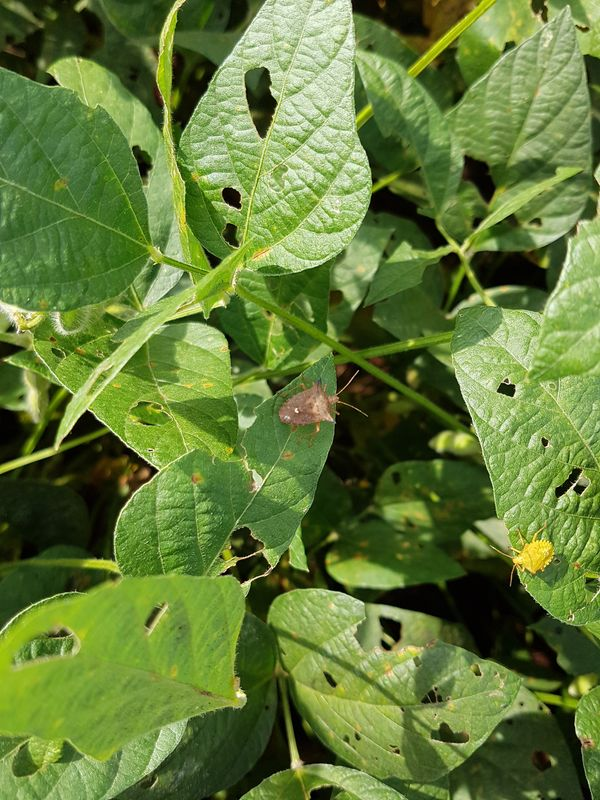Euschistus_heros_adulto: (264, 358, 372, 442)
Euschistus_heros_ninfa: (485, 519, 566, 597)
